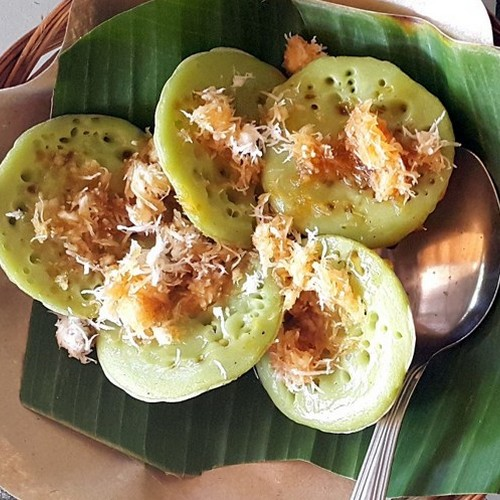laklak: (65, 74, 383, 402)
